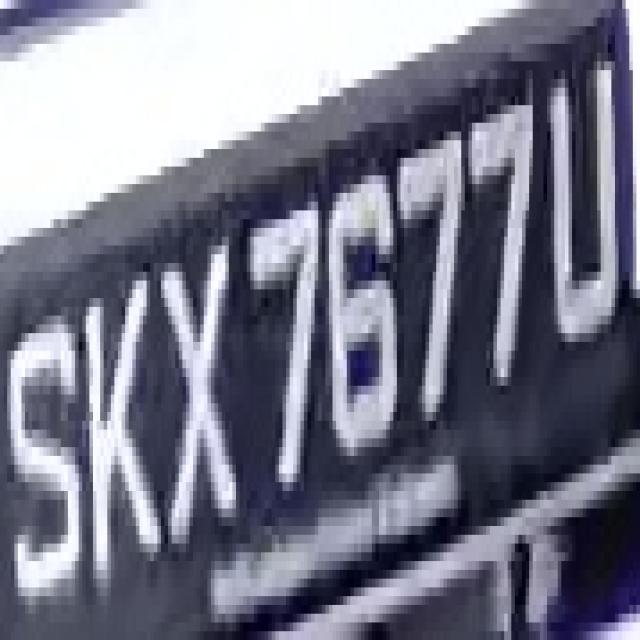6: (318, 149, 401, 456)
7: (239, 193, 329, 526), (383, 114, 472, 447), (462, 79, 544, 403)
K: (75, 272, 157, 614)
S: (4, 280, 86, 622)
U: (547, 70, 622, 368)
X: (161, 228, 236, 570)
